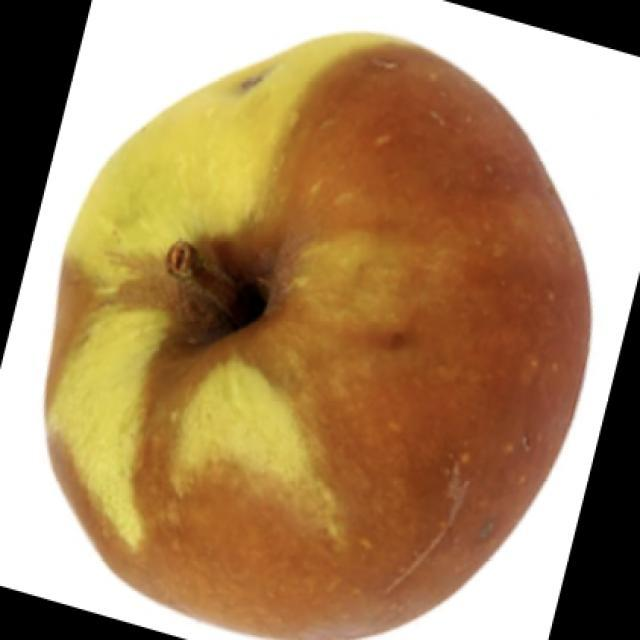Rotten: (77, 25, 595, 640)
